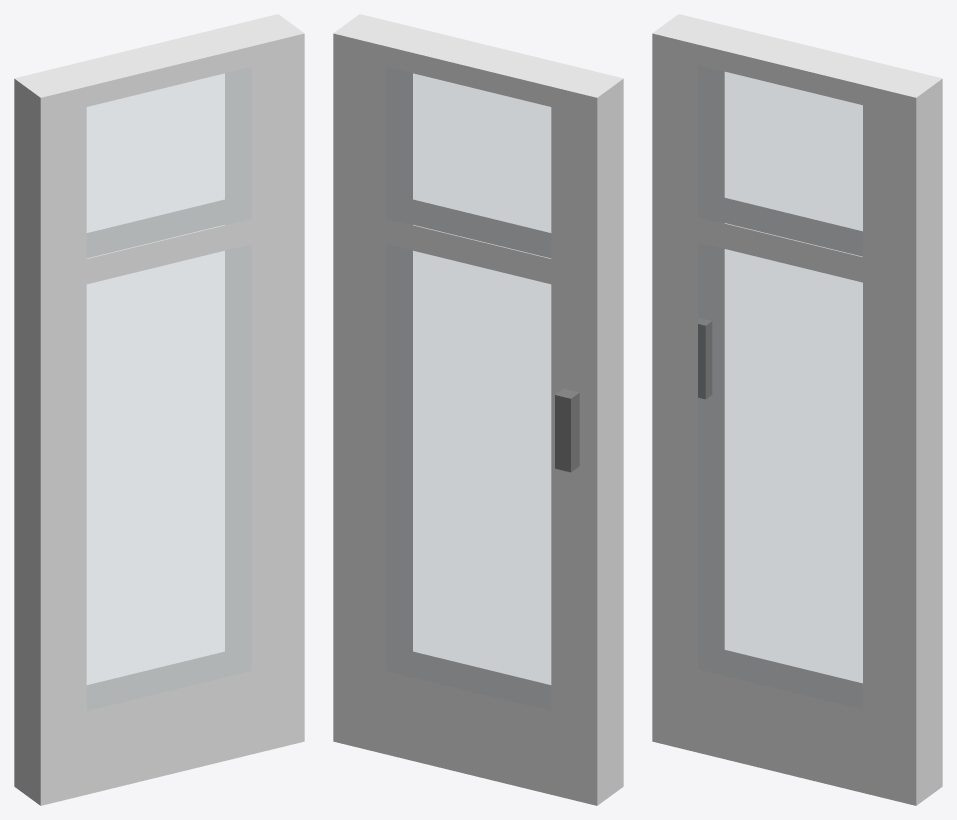
The model's file is door.fbx.
3 renders of one model, left to right at view 1: azimuth 30°, elevation 25°; view 2: azimuth 150°, elevation 25°; view 3: azimuth 330°, elevation 25°, orthographic.
Visible parts, largest first — view 1: Cube.039; view 2: Cube.039; view 3: Cube.039.
Part boxes in pixels (x1,y1,x2,y2): Cube.039: (14, 14, 304, 805); Cube.039: (333, 14, 623, 805); Cube.039: (652, 14, 942, 805).
Bounding box in the file's own units: 16.81 × 43.07 × 3.89.
